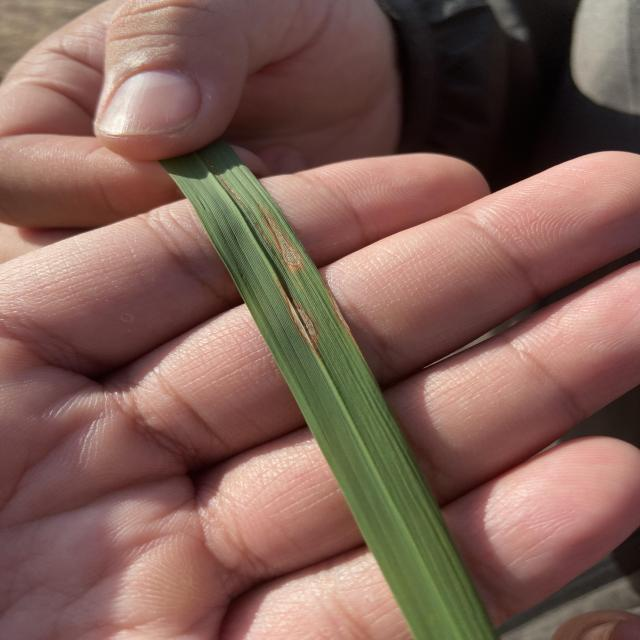Dao on: (260, 206, 305, 271), (287, 298, 319, 347), (325, 282, 350, 331)
